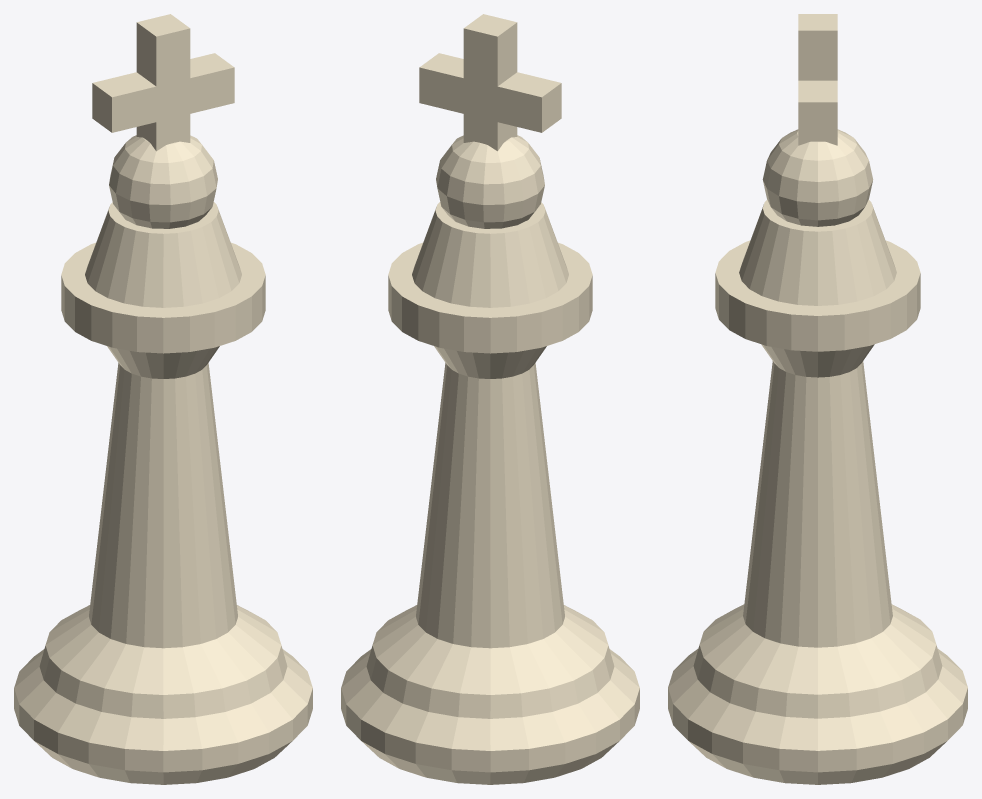
File: chess-king.glb
3 renders of one model, left to right at view 1: azimuth 30°, elevation 25°; view 2: azimuth 150°, elevation 25°; view 3: azimuth 270°, elevation 25°, orthographic.
Parts seen in each view (by area): view 1: king; view 2: king; view 3: king.
Boxes of the visible parts, bbox=[...] form: king: bbox=[14, 14, 312, 784]; king: bbox=[341, 14, 639, 784]; king: bbox=[668, 14, 967, 784].
Size of the model in its own units: 0.038 by 0.099 by 0.038.
